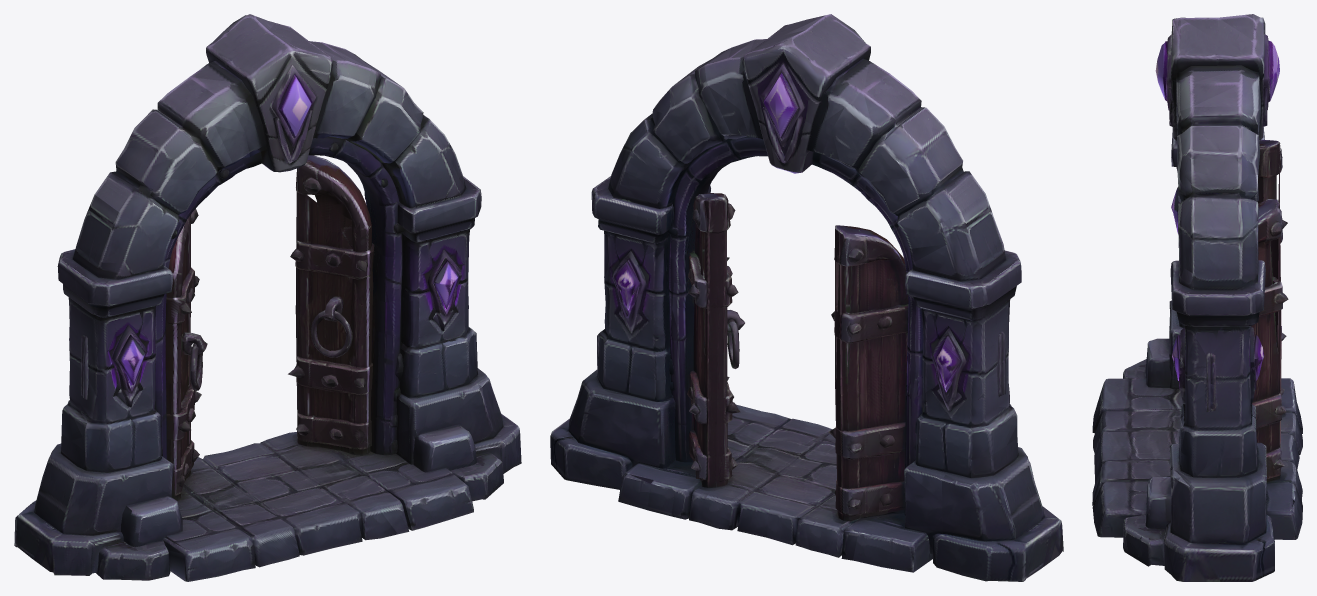
Rendered from door_standard_open.glb.
3 renders of one model, left to right at view 1: azimuth 30°, elevation 25°; view 2: azimuth 150°, elevation 25°; view 3: azimuth 270°, elevation 25°, orthographic. The views are drawn at different scales.
Size of the model in its own units: 1 by 0.9785 by 0.4062.
Materials: 1 (1 with a texture image).
